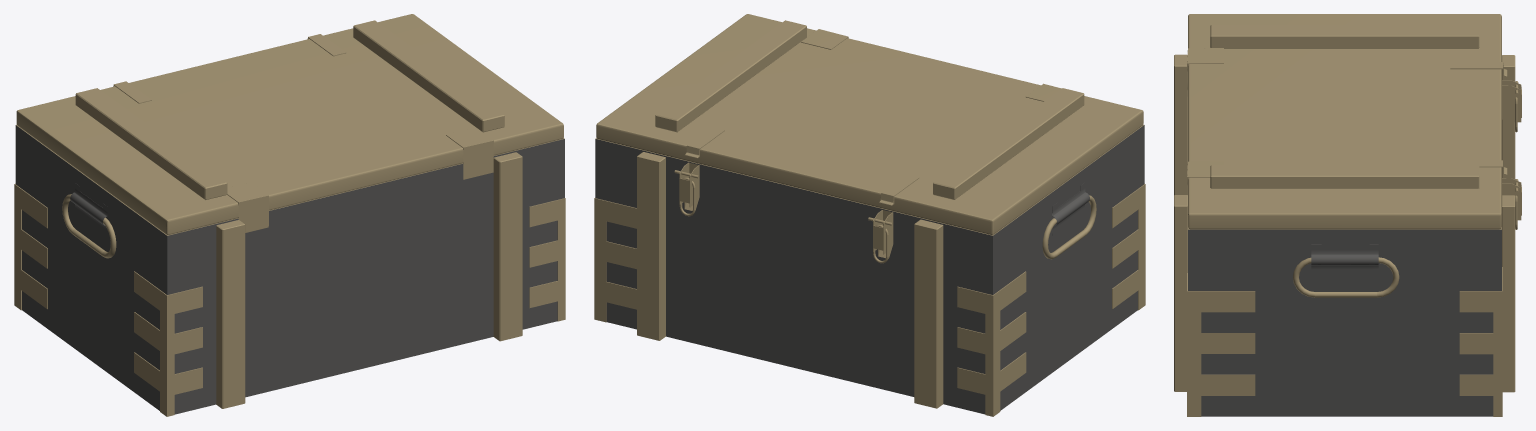
File: MILITARY CRATE FOR SNAPSHOT.fbx
The picture shows the model from 3 angles, left to right: view 1: azimuth 30°, elevation 25°; view 2: azimuth 150°, elevation 25°; view 3: azimuth 270°, elevation 25°; orthographic projection. The views are drawn at different scales.
Visible parts, largest first — view 1: pCube34; view 2: pCube34; view 3: pCube34.
Part boxes in pixels (x1,y1,x2,y2): pCube34: [14, 14, 565, 416]; pCube34: [594, 14, 1145, 416]; pCube34: [1174, 14, 1521, 416].
Bounding box in the file's own units: 5.44 × 2.66 × 3.88.
